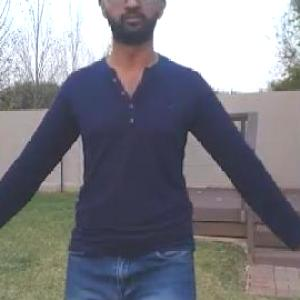land: (0, 0, 295, 299)
